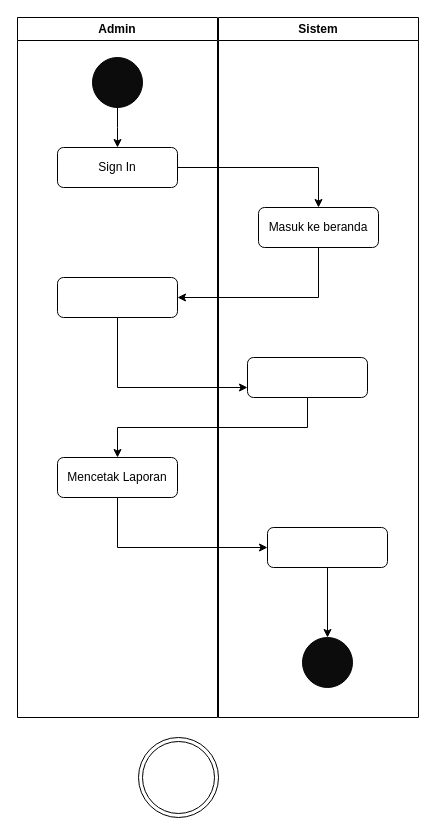
Image size: 436x835. Some labels were removed from this diagram. Here are the shapes that lost their labels. From the top down, the centre of each, then its label:
the point at 117,297: Melihat Laporan
the point at 307,377: Menampilkan data laporan
the point at 327,547: Menampilkan laporan
